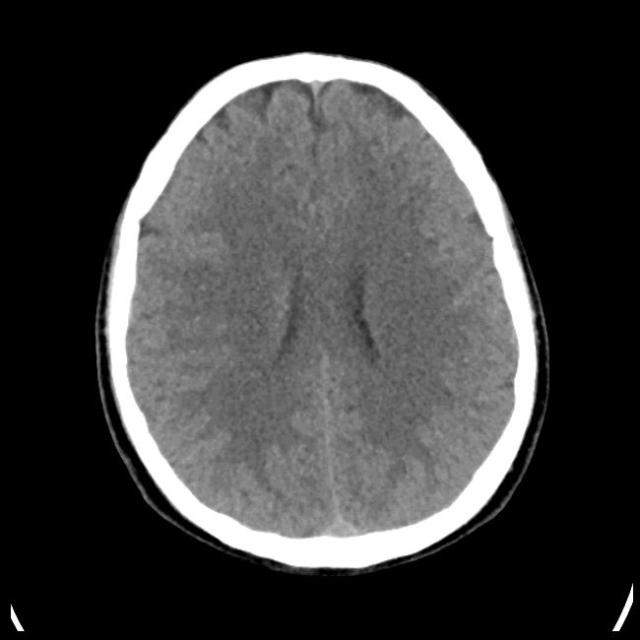lesion: (98, 53, 548, 572)
